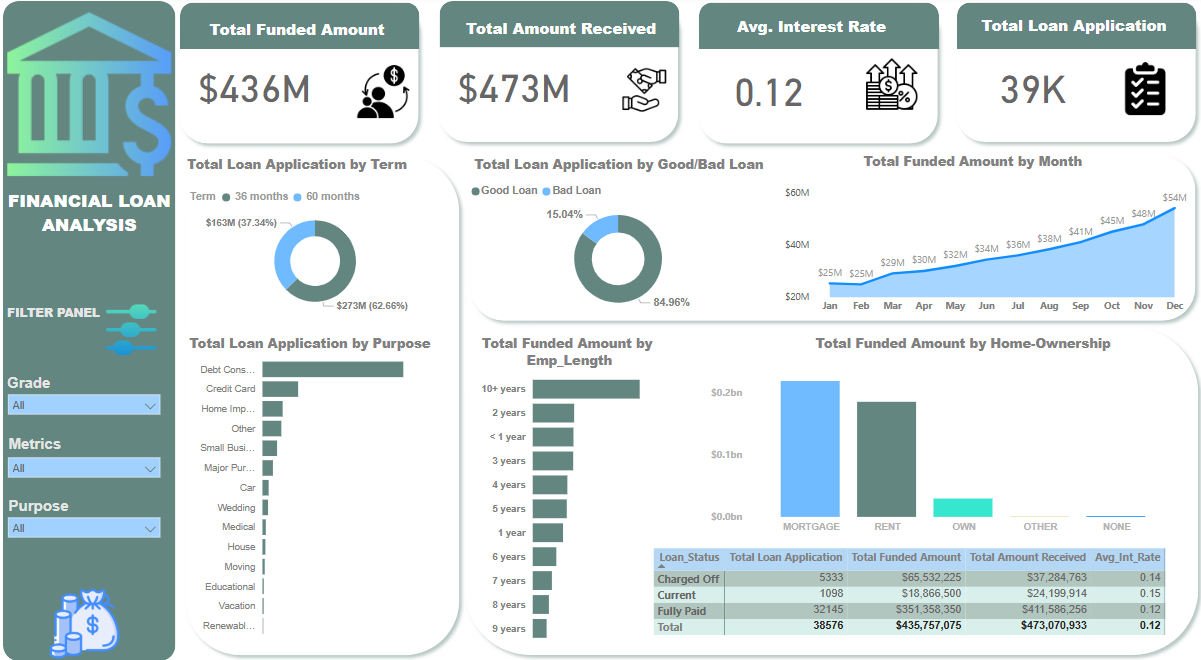

What the dashboard file says about the page in this screenshot:
{"tool":"powerbi","page":{"name":"Page 1","canvas":[1500,830],"ordinal":0},"visuals":[{"type":"shape","box":[222.1,192.3,358.4,638.4],"z":0},{"type":"shape","box":[3.7,7.5,214.7,821.3],"z":1000},{"type":"shape","box":[214.7,1.9,315.5,192.3],"z":2000},{"type":"shape","box":[224,9.8,298,57.9],"z":3000},{"type":"shape","box":[537.6,0.2,315.5,192],"z":4000},{"type":"shape","box":[546.9,7.7,298.7,57.9],"z":5000},{"type":"shape","box":[1181.7,0.2,315.5,192],"z":6000},{"type":"shape","box":[1191,9.5,298,57.9],"z":7000},{"type":"shape","box":[860.2,1.7,315.5,192],"z":8000},{"type":"shape","box":[869.5,9.1,298.7,57.9],"z":9000},{"type":"card","fields":{"Values":["Measure_Table.Total Funded Amount"]},"box":[225.9,69.1,181.1,84],"z":10000},{"type":"textbox","box":[224,24.3,291.2,42.9],"z":11000},{"type":"card","fields":{"Values":["Measure_Table.Total Amount Received"]},"box":[552.5,63.5,173.6,93.3],"z":12000},{"type":"textbox","box":[552.5,22.4,291.2,42.9],"z":13000},{"type":"card","fields":{"Values":["Measure_Table.Avg_Int_Rate"]},"box":[879.2,67.2,154.9,97.1],"z":14000},{"type":"textbox","box":[864.2,20.5,291.2,42.9],"z":15000},{"type":"card","fields":{"Values":["Measure_Table.Total Loan Application"]},"box":[1213.3,61.6,143.7,98.9],"z":16000},{"type":"textbox","box":[1190.9,18.7,291.2,42.9],"z":17000},{"type":"image","box":[763.4,74.7,76,87.7],"z":18000},{"type":"image","box":[438.7,76.5,76.5,87.7],"z":19000},{"type":"image","box":[1071.4,67.2,76.5,87.7],"z":20000},{"type":"image","box":[1386.9,72.8,76.5,87.7],"z":21000},{"type":"textbox","box":[0,235.2,222.1,95.2],"z":22000},{"type":"image","box":[3.7,0,214.7,246.4],"z":23000},{"type":"donutChart","fields":{"Y":["Measure_Table.Total Funded Amount"],"Category":["financial_loan.Term"]},"box":[231.5,231.5,321.1,169.9],"z":24000},{"type":"slicer","fields":{"Values":["Metrics.Metrics"]},"box":[726.1,229.6,231.5,149.3],"z":25000},{"type":"shape","box":[569.3,405.1,931.4,425.6],"z":26000},{"type":"shape","box":[576.8,192.3,920.2,222.1],"z":27000},{"type":"lineChart","fields":{"Y":["Measure_Table.Total Funded Amount"],"Category":["Calendar_Table.Month"]},"box":[970.6,231.5,511.5,173.6],"z":28000},{"type":"barChart","fields":{"Y":["Measure_Table.Total Funded Amount"],"Category":["financial_loan.Emp_Length"]},"box":[591.7,453.6,248.3,364],"z":29000},{"type":"barChart","fields":{"Y":["Measure_Table.Total Funded Amount"],"Category":["financial_loan.Purpose"]},"box":[231.5,433.1,326.7,377.1],"z":30000},{"type":"slicer","fields":{"Values":["Metrics.Metrics"]},"box":[0,565.6,209.1,70.9],"z":31000},{"type":"donutChart","fields":{"Y":["Measure_Table.Total Funded Amount"],"Category":["financial_loan.Good/Bad Loan"]},"box":[580.5,224,377.1,179.2],"z":32000},{"type":"clusteredColumnChart","fields":{"Y":["Measure_Table.Total Funded Amount"],"Category":["financial_loan.Home_Ownership"]},"box":[879.2,443.1,591.7,235.2],"z":33000},{"type":"slicer","fields":{"Values":["financial_loan.Grade"]},"box":[0,487.2,209.1,59.7],"z":34000},{"type":"slicer","fields":{"Values":["financial_loan.Purpose"]},"box":[0,640.2,209.1,48.5],"z":35000},{"type":"textbox","box":[227.7,194.1,298.7,37.3],"z":36000},{"type":"textbox","box":[539.5,194.1,393.9,41.1],"z":37000},{"type":"textbox","box":[225.9,416.3,319.2,37.3],"z":38000},{"type":"textbox","box":[1013.6,190.4,393.9,41.1],"z":39000},{"type":"textbox","box":[591.7,414.4,280,54.1],"z":40000},{"type":"textbox","box":[963.2,416.3,470.4,37.3],"z":41000},{"type":"pivotTable","fields":{"Rows":["financial_loan.Loan_Status"],"Values":["Measure_Table.Total Loan Application","Measure_Table.Total Funded Amount","Measure_Table.Total Amount Received","Measure_Table.Avg_Int_Rate"]},"box":[808.2,683.2,670,147],"z":42000},{"type":"textbox","box":[3.7,466.7,151.2,39.2],"z":43000},{"type":"textbox","box":[5.6,543.2,151.2,39.2],"z":44000},{"type":"textbox","box":[5.6,619.7,184.8,42.9],"z":45000},{"type":"textbox","box":[3.7,378.9,298.7,35.5],"z":46000},{"type":"image","box":[112,375.2,102.7,82.1],"z":47000},{"type":"image","box":[48.5,732.9,113.9,97.1],"z":48000}]}

Visuals, with their boxes in screenshot pixels (x1, y1, x2, y2), scaled from the page's 1500x830 canvas onto the 1201x660 screenshot:
shape: BBox(178, 153, 465, 659)
shape: BBox(3, 6, 175, 659)
shape: BBox(172, 2, 425, 154)
shape: BBox(179, 8, 418, 54)
shape: BBox(430, 0, 683, 153)
shape: BBox(438, 6, 677, 52)
shape: BBox(946, 0, 1199, 153)
shape: BBox(954, 8, 1192, 54)
shape: BBox(689, 1, 941, 154)
shape: BBox(696, 7, 935, 53)
card - Measure_Table.Total Funded Amount: BBox(181, 55, 326, 122)
textbox: BBox(179, 19, 413, 53)
card - Measure_Table.Total Amount Received: BBox(442, 50, 581, 125)
textbox: BBox(442, 18, 676, 52)
card - Measure_Table.Avg_Int_Rate: BBox(704, 53, 828, 131)
textbox: BBox(692, 16, 925, 50)
card - Measure_Table.Total Loan Application: BBox(971, 49, 1087, 128)
textbox: BBox(954, 15, 1187, 49)
image: BBox(611, 59, 672, 129)
image: BBox(351, 61, 413, 131)
image: BBox(858, 53, 919, 123)
image: BBox(1110, 58, 1172, 128)
textbox: BBox(0, 187, 178, 263)
image: BBox(3, 0, 175, 196)
donutChart - Measure_Table.Total Funded Amount x financial_loan.Term: BBox(185, 184, 442, 319)
slicer - Metrics.Metrics: BBox(581, 183, 767, 301)
shape: BBox(456, 322, 1200, 659)
shape: BBox(462, 153, 1199, 330)
lineChart - Measure_Table.Total Funded Amount x Calendar_Table.Month: BBox(777, 184, 1187, 322)
barChart - Measure_Table.Total Funded Amount x financial_loan.Emp_Length: BBox(474, 361, 673, 650)
barChart - Measure_Table.Total Funded Amount x financial_loan.Purpose: BBox(185, 344, 447, 644)
slicer - Metrics.Metrics: BBox(0, 450, 167, 506)
donutChart - Measure_Table.Total Funded Amount x financial_loan.Good/Bad Loan: BBox(465, 178, 767, 321)
clusteredColumnChart - Measure_Table.Total Funded Amount x financial_loan.Home_Ownership: BBox(704, 352, 1178, 539)
slicer - financial_loan.Grade: BBox(0, 387, 167, 435)
slicer - financial_loan.Purpose: BBox(0, 509, 167, 548)
textbox: BBox(182, 154, 421, 184)
textbox: BBox(432, 154, 747, 187)
textbox: BBox(181, 331, 436, 361)
textbox: BBox(812, 151, 1127, 184)
textbox: BBox(474, 330, 698, 373)
textbox: BBox(771, 331, 1148, 361)
pivotTable - financial_loan.Loan_Status x Measure_Table.Total Loan Application: BBox(647, 543, 1184, 659)
textbox: BBox(3, 371, 124, 402)
textbox: BBox(4, 432, 126, 463)
textbox: BBox(4, 493, 152, 527)
textbox: BBox(3, 301, 242, 330)
image: BBox(90, 298, 172, 364)
image: BBox(39, 583, 130, 659)
